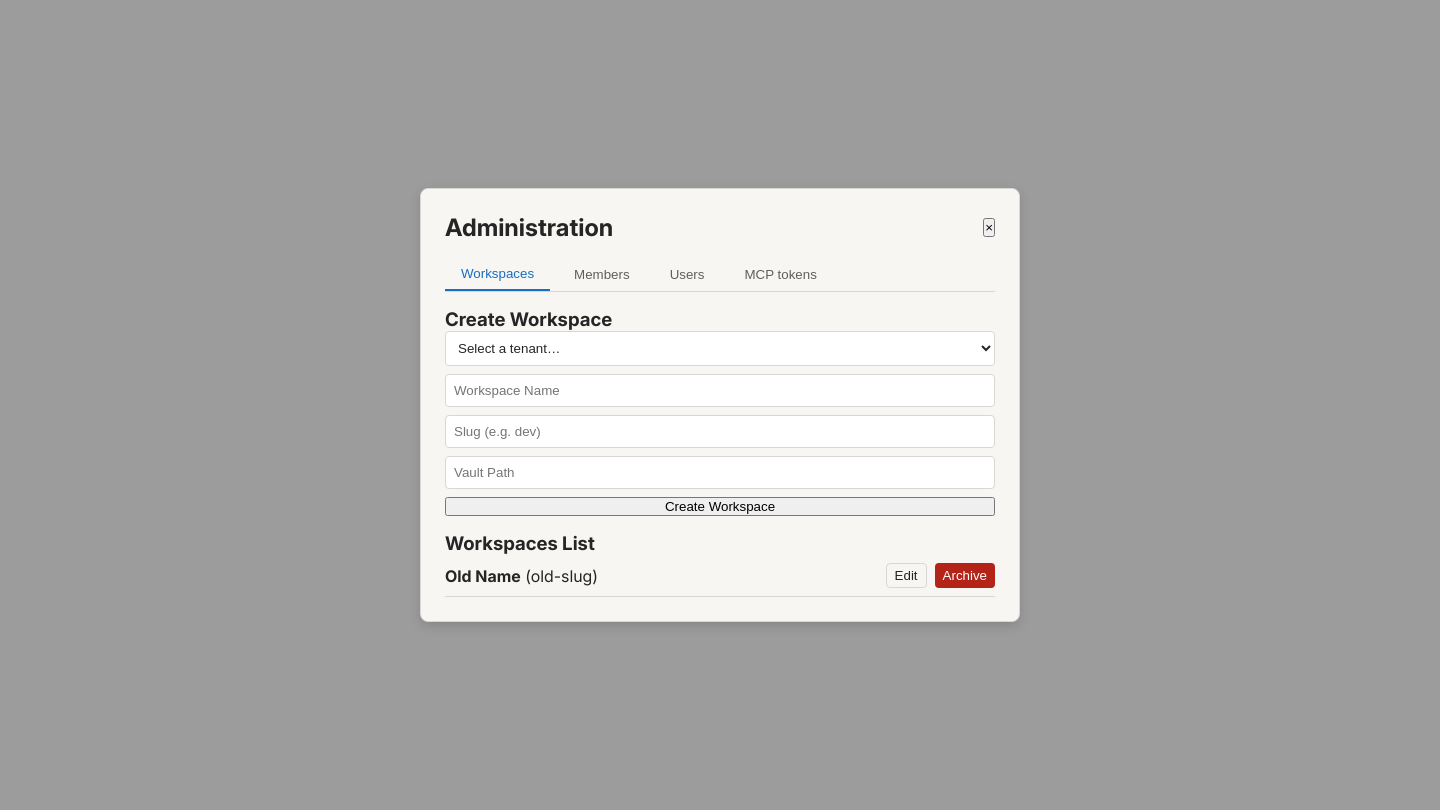
AdminPanel Component › discards edits and closes the edit form on Cancel
Click the button with test id "admin-edit-workspace-btn" at (906, 576), box [886,563,927,588]
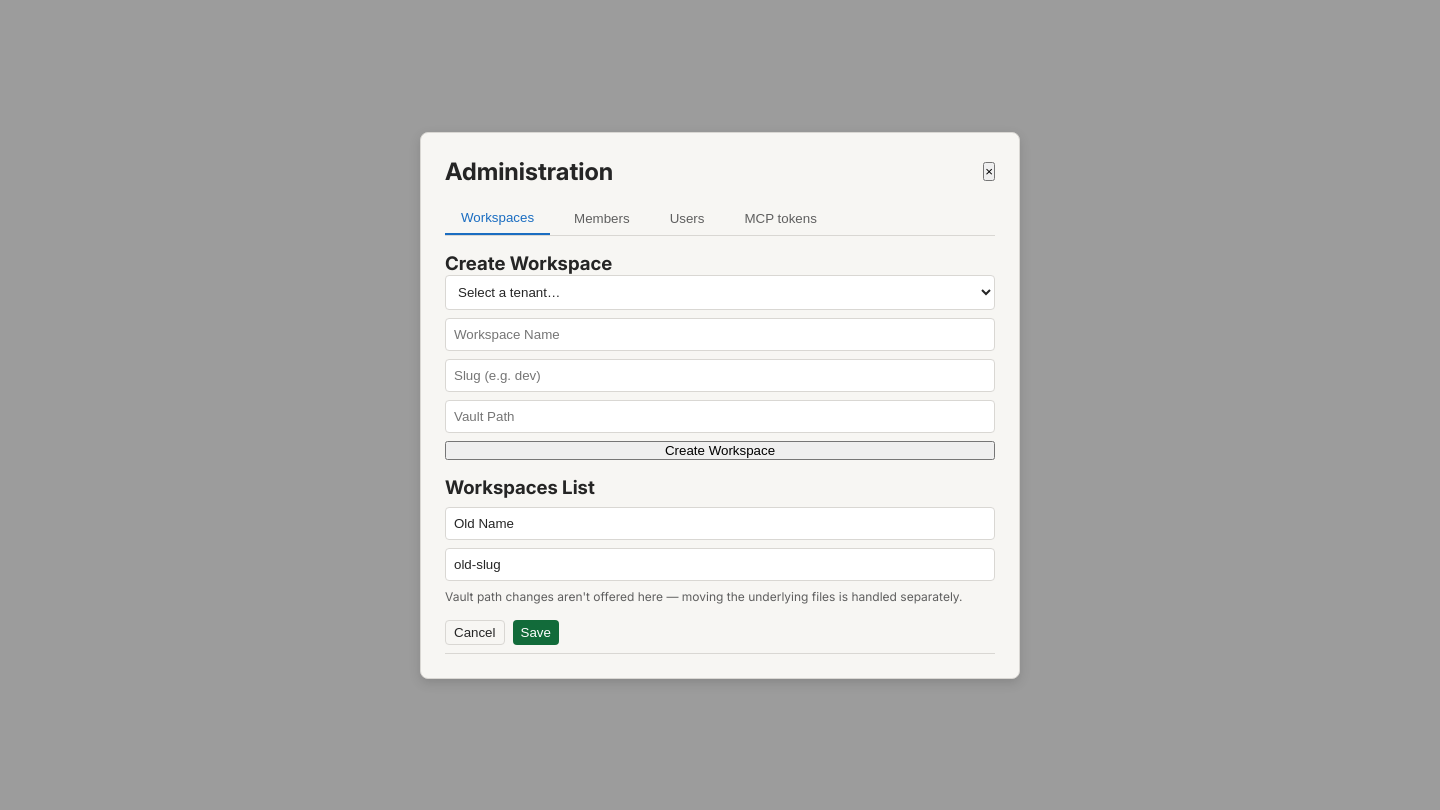
Replace the text in the field with test id "admin-edit-workspace-name" with "Discarded Name" at (720, 523), box [445,506,995,540]
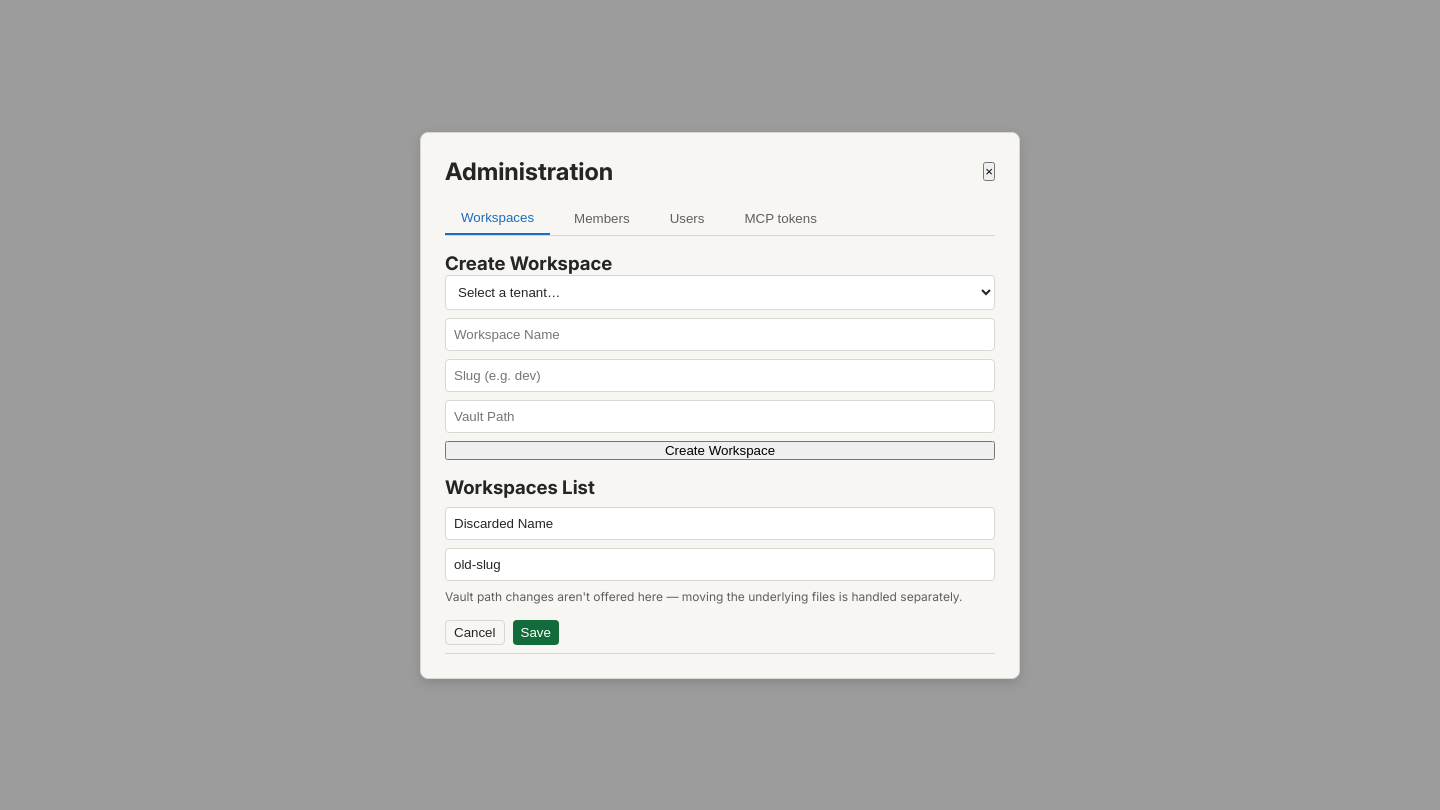
Click the button with test id "admin-edit-workspace-cancel" at (475, 632), box [445,620,504,644]
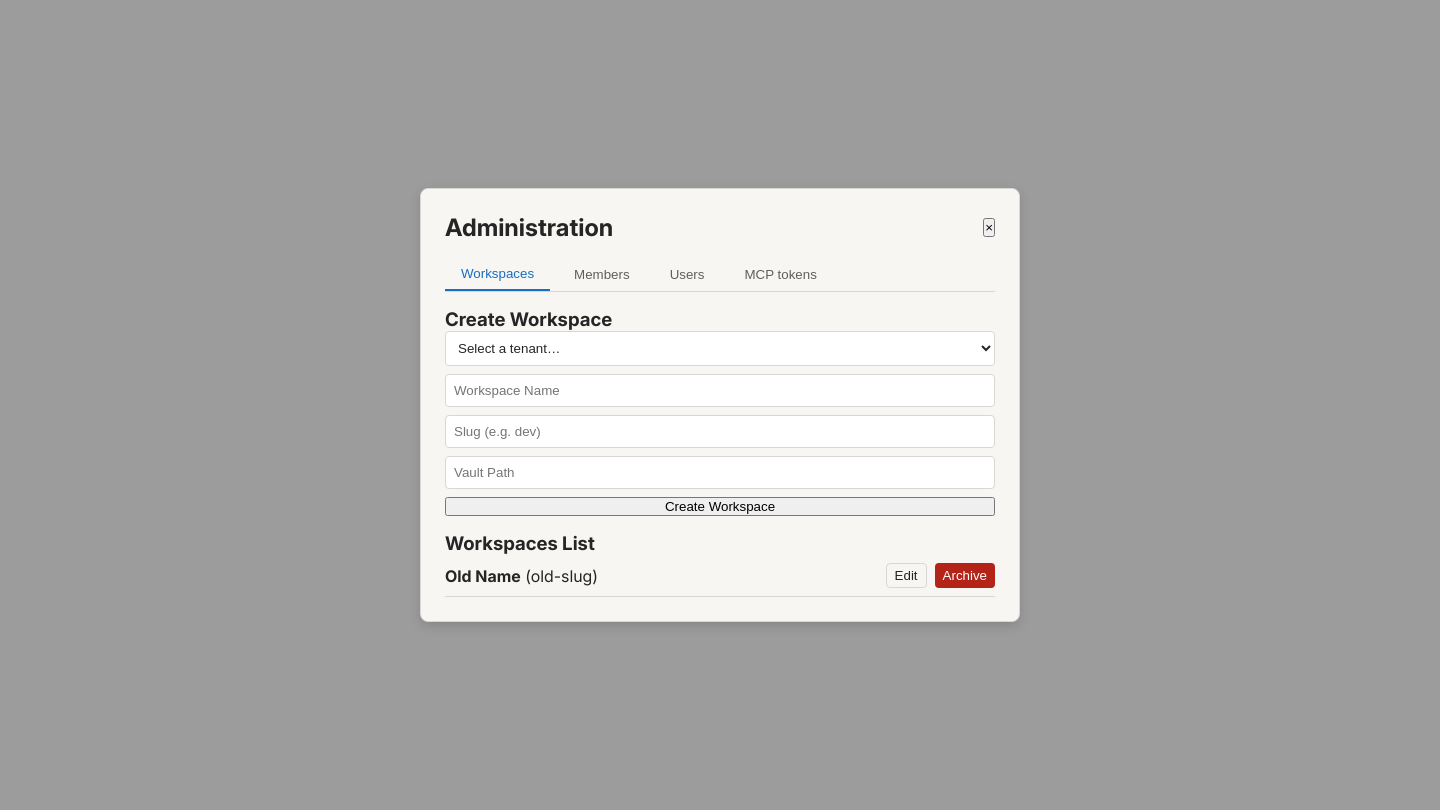
Now the text "Old Name" is shown, box [445,566,521,586]
